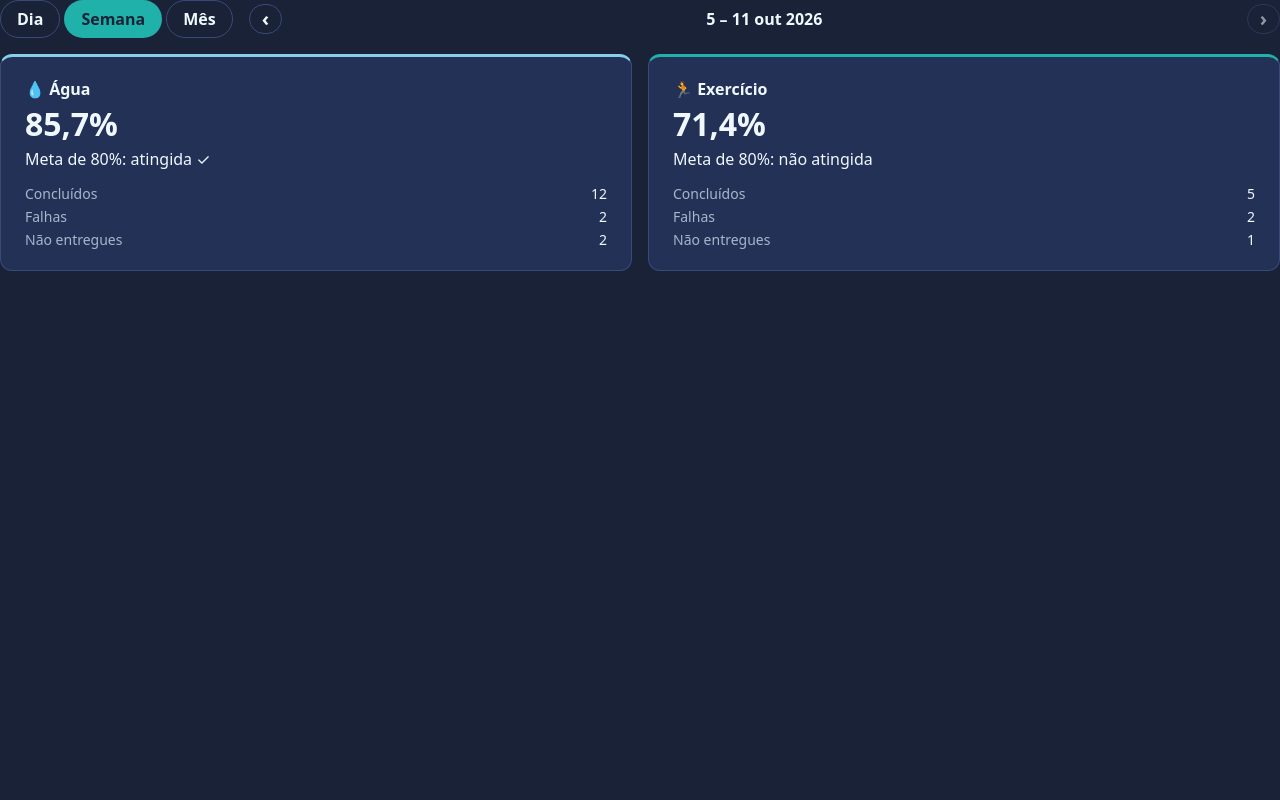
Test: HistoricoView › dia › hoje em andamento aparece marcado (D11), e a lista é só para leitura, com o editado
Step 1. Click the button "Dia" → (30, 19), box [0,0,60,38]
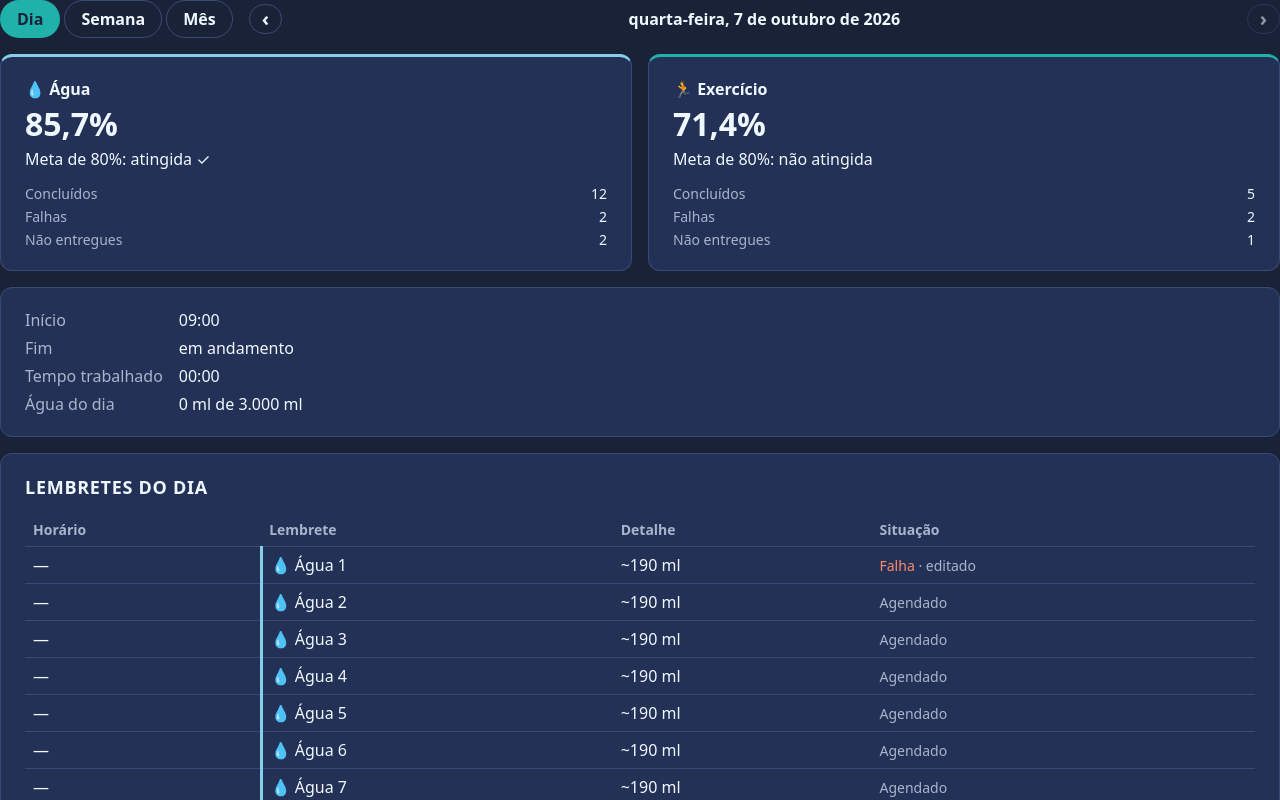
Expected: the text with test id "editado" reads "· editado", [915,556,976,575]
